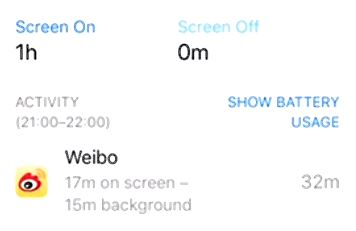activity: (7, 89, 117, 133)
app: (4, 144, 351, 215)
